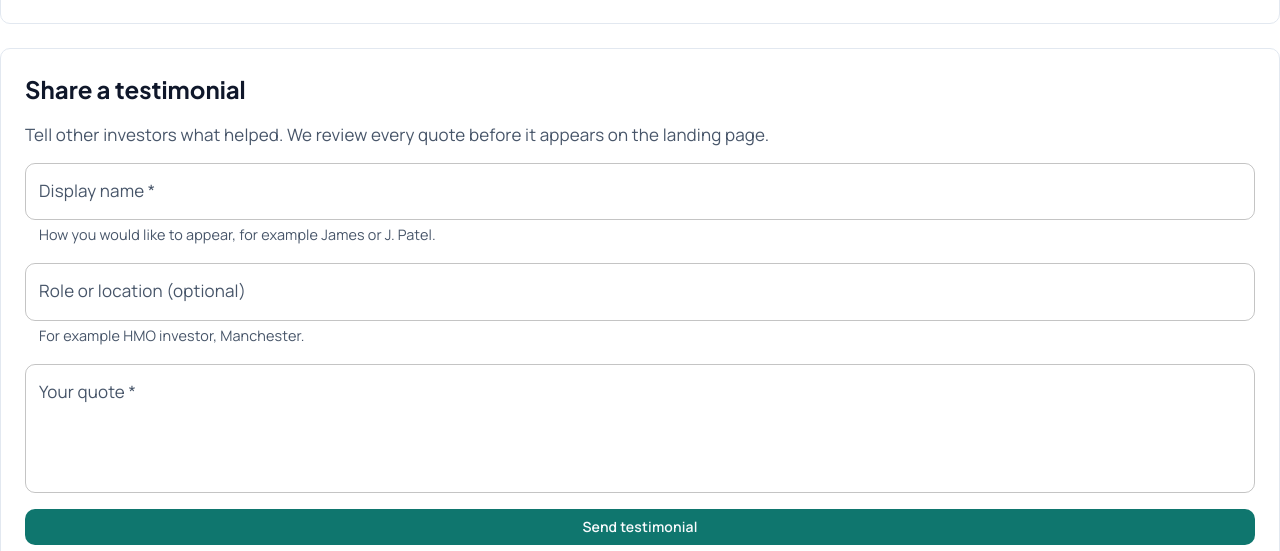
Test: AccountPage › sends a testimonial from the account form
(page scrolled)
Type "James" into the field labelled "Display name *" at (640, 192), box top-left (25, 163), bottom-right (1255, 220)
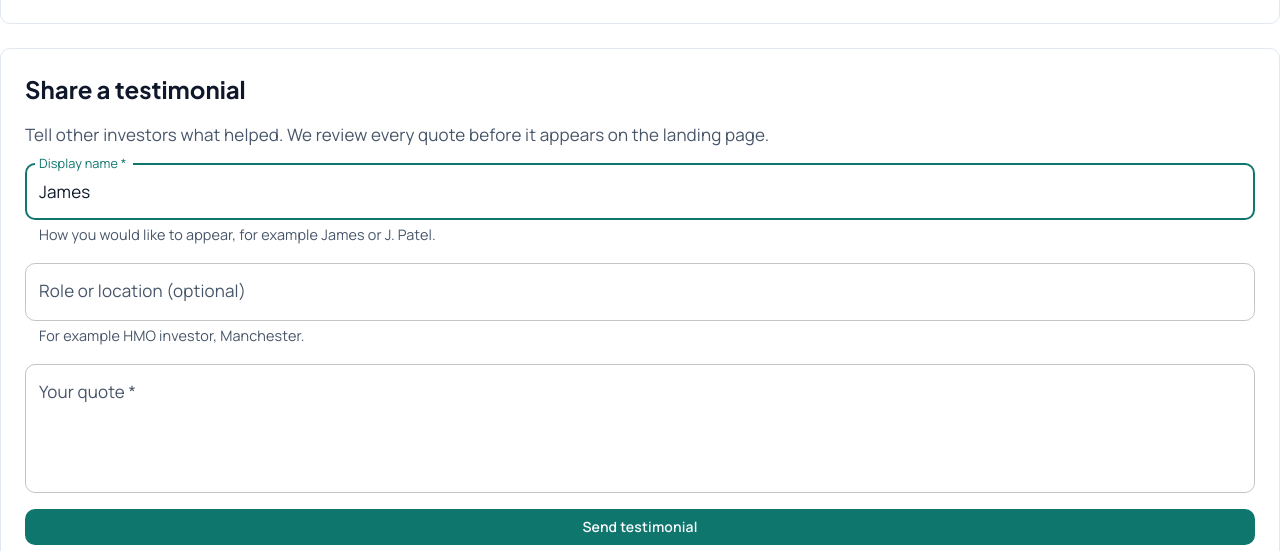
Type "Clear licensing notes before I booked the surveyor." into the text box labelled "Your quote *" at (640, 428), box top-left (39, 380), bottom-right (1241, 476)
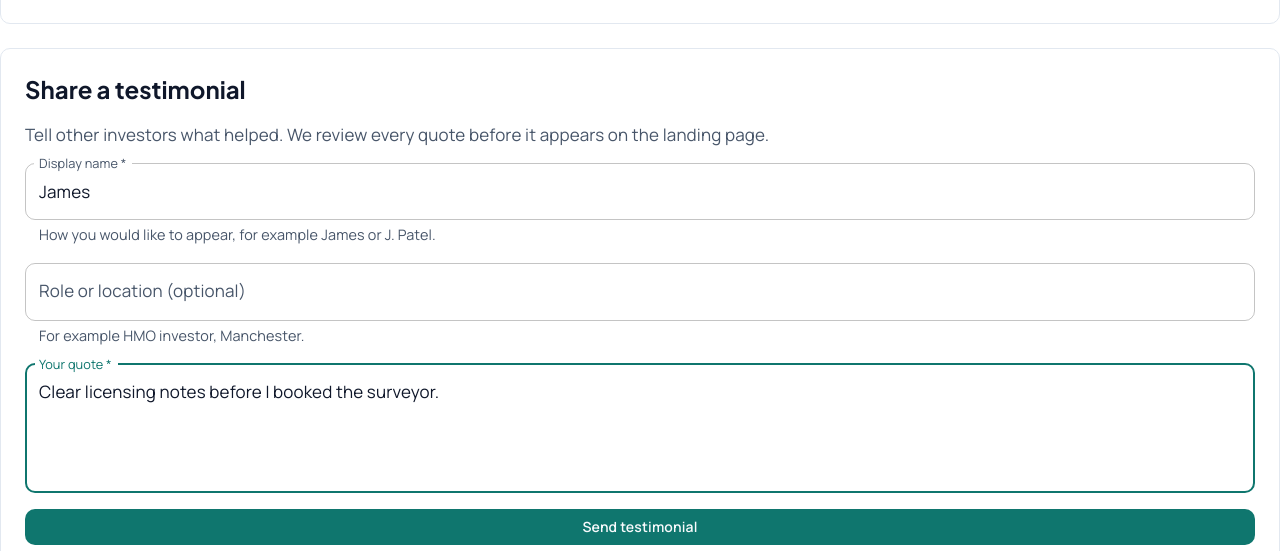
Click the button "Send testimonial" at (640, 527), box top-left (25, 509), bottom-right (1255, 545)
(page scrolled)
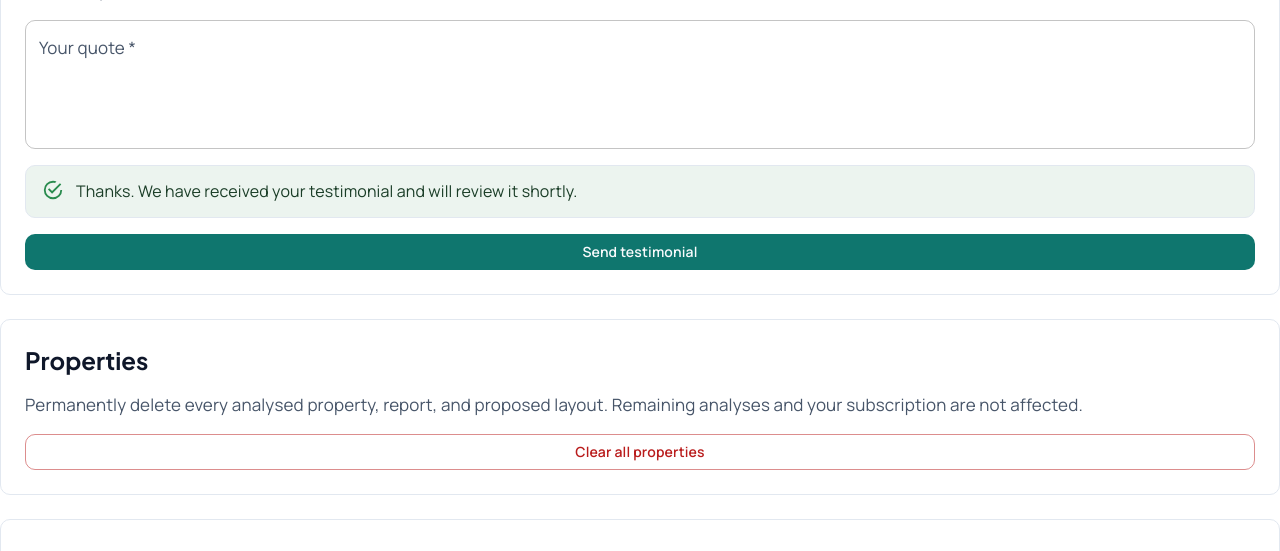
Now the text "Thanks. We have received your testimonial and will review it shortly." is shown, box top-left (76, 180), bottom-right (577, 202)
